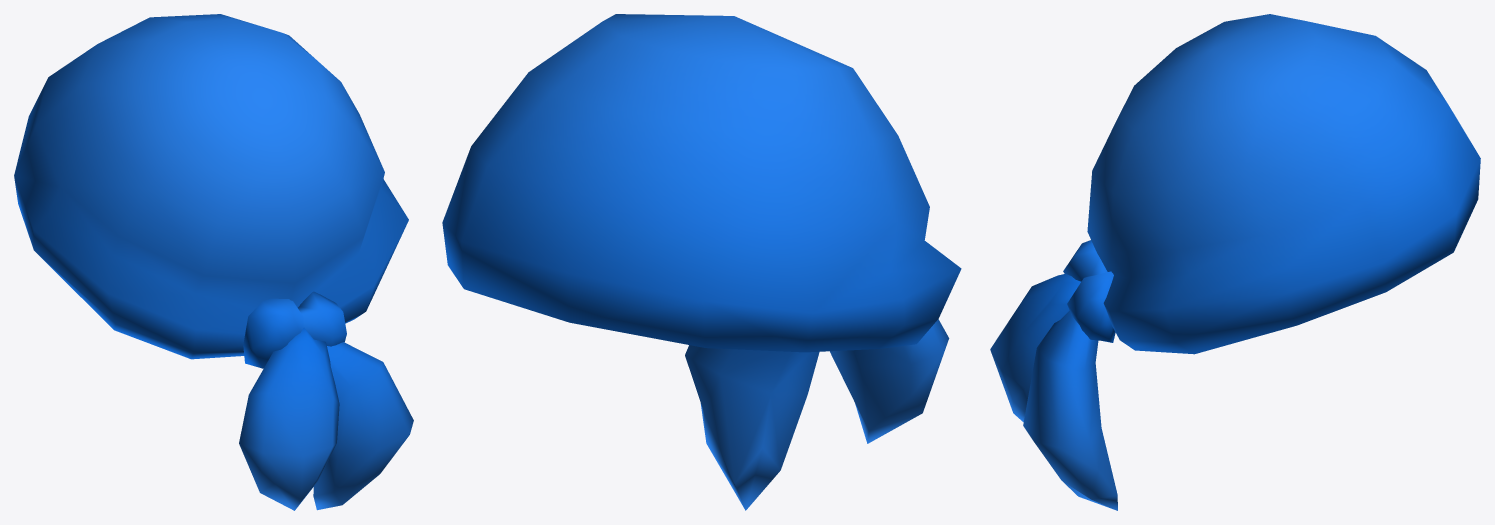
Rendered from Headgear_12.fbx.
3 renders of one model, left to right at view 1: azimuth 30°, elevation 25°; view 2: azimuth 150°, elevation 25°; view 3: azimuth 270°, elevation 25°, orthographic. The views are drawn at different scales.
Parts seen in each view (by area): view 1: Headgear_12; view 2: Headgear_12; view 3: Headgear_12.
Boxes of the visible parts, x1=… form: Headgear_12: x1=14, y1=14, x2=413, y2=510; Headgear_12: x1=442, y1=14, x2=961, y2=510; Headgear_12: x1=990, y1=14, x2=1480, y2=510.
Size of the model in its own units: 84.18 by 104 by 102.
